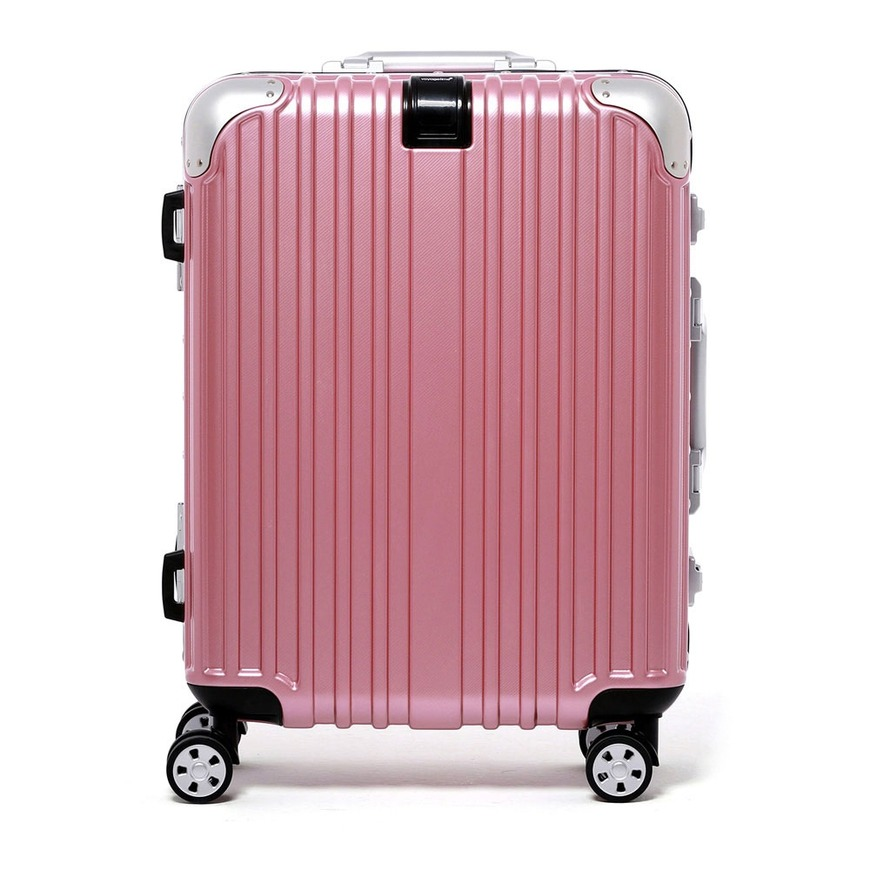luggage: (160, 51, 707, 804)
